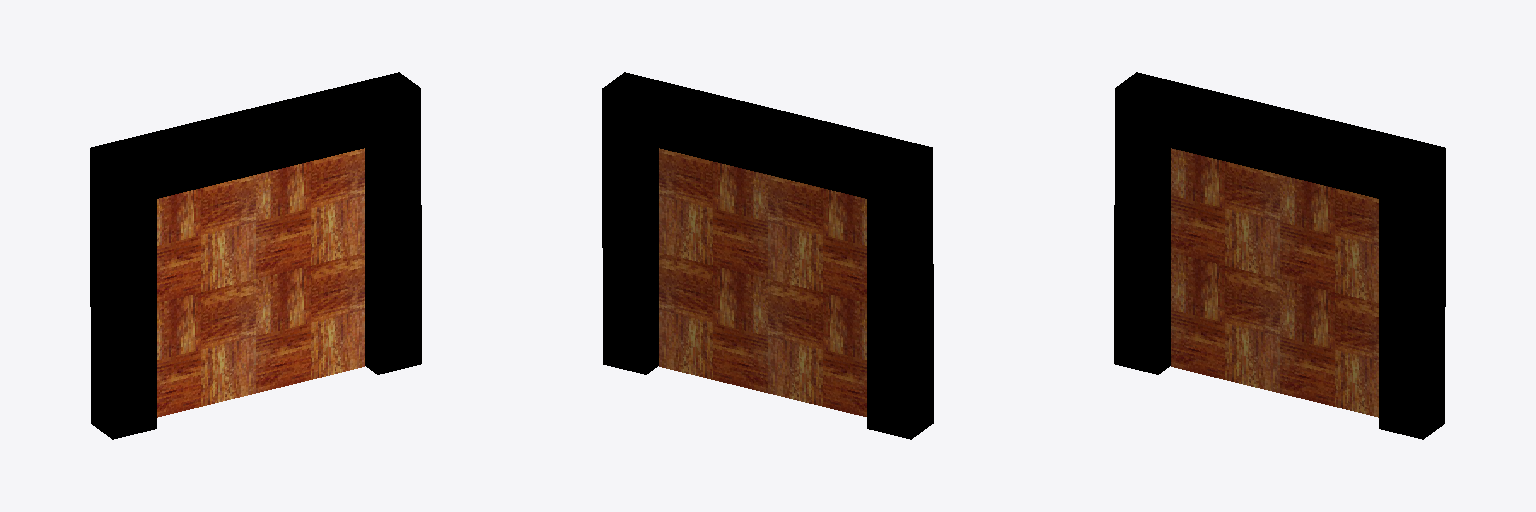
3 views of the same model, side by side, from view 1: azimuth 30°, elevation 25°; view 2: azimuth 150°, elevation 25°; view 3: azimuth 330°, elevation 25° (orthographic).
Parts seen in each view (by area): view 1: 立方体, 平面; view 2: 立方体, 平面; view 3: 立方体, 平面.
Boxes of the visible parts, x1=… form: 立方体: x1=90, y1=72, x2=421, y2=439; 平面: x1=157, y1=148, x2=364, y2=417; 立方体: x1=602, y1=72, x2=933, y2=439; 平面: x1=659, y1=148, x2=866, y2=416; 立方体: x1=1114, y1=72, x2=1445, y2=439; 平面: x1=1171, y1=148, x2=1378, y2=417.
Size of the model in its own units: 2.83 by 2.41 by 0.3529.
2 materials, 2 textured.